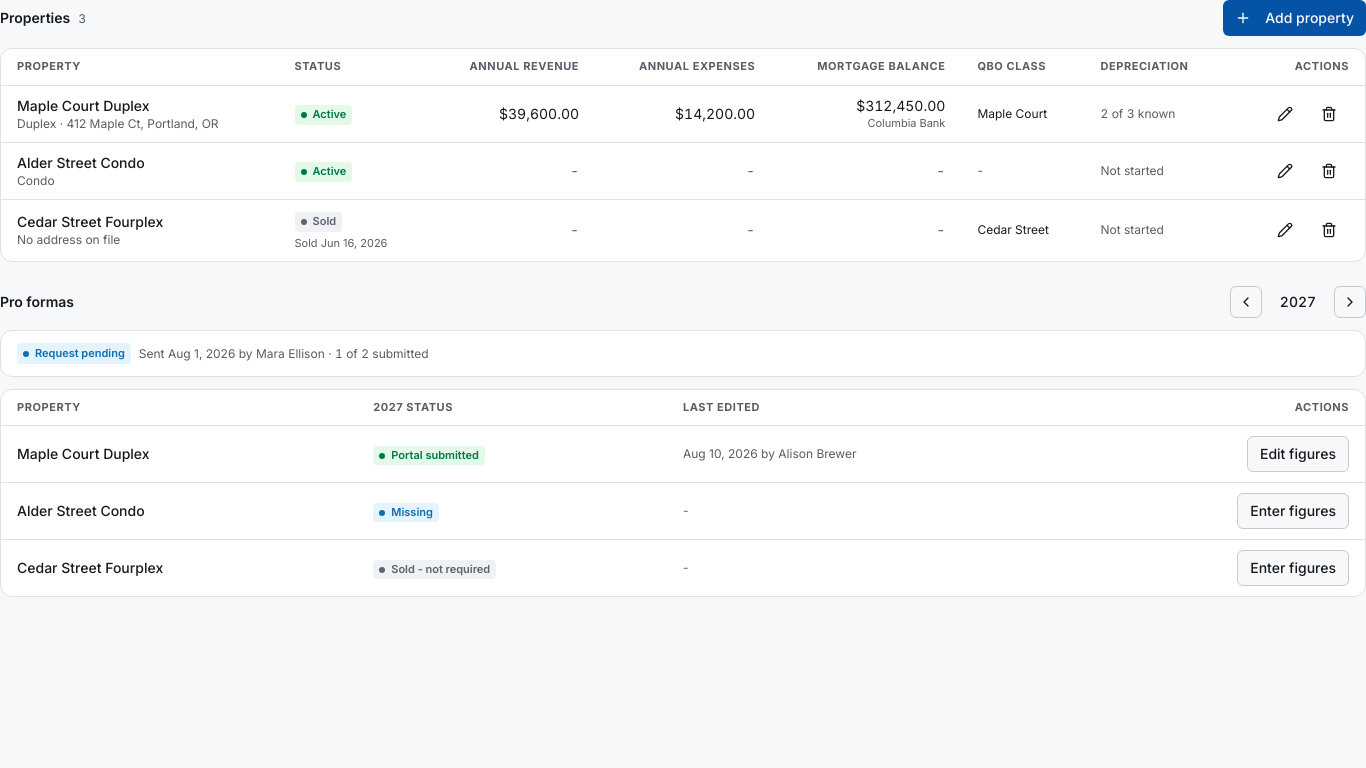
Test: ClientPropertiesPanel - property table › edit dialog carries the depreciation fields with per-field Known checkboxes
Click the button named "Edit Maple Court Duplex" at x=1285, y=114, box [1265,96,1305,132]
(page scrolled)
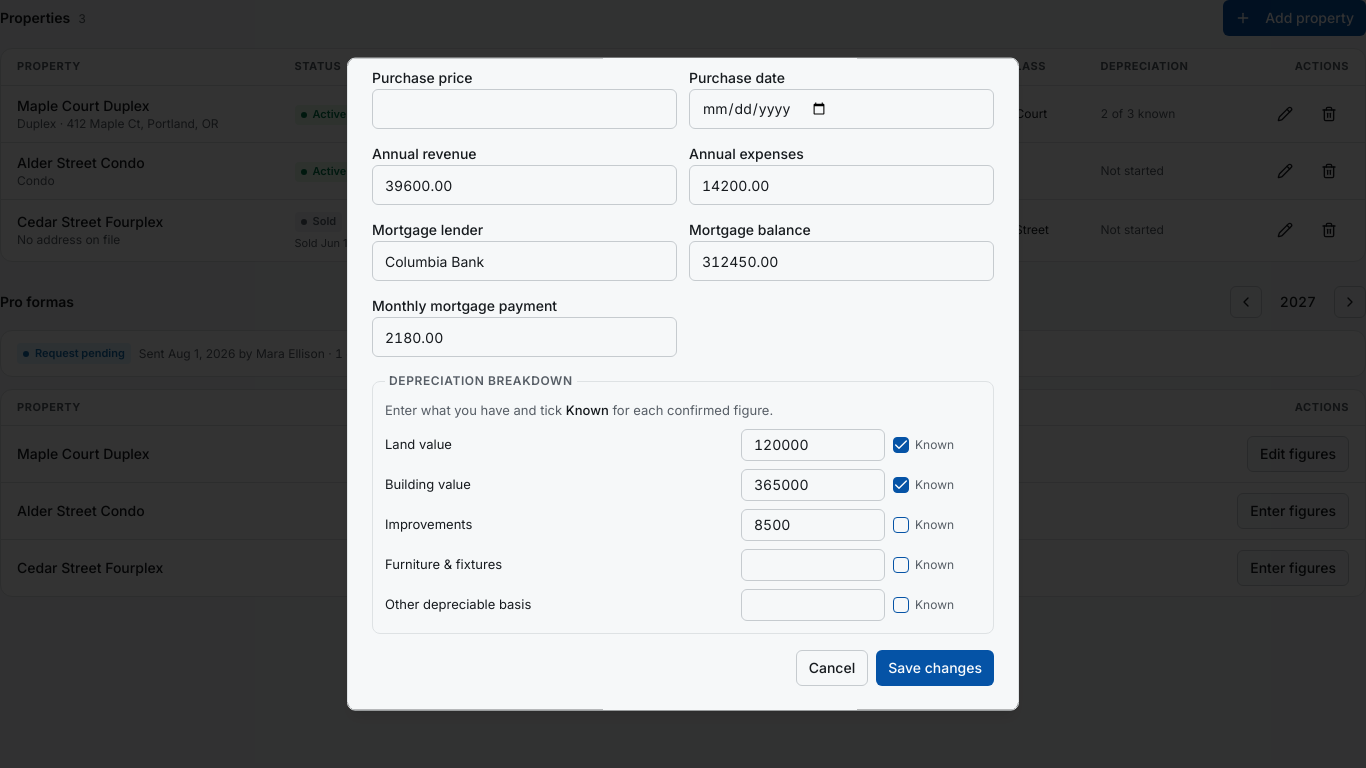
Expected: the dialog is shown, [347,58,1019,710]
Expected: the text "Depreciation breakdown" is shown, [385,373,577,389]
Expected: the checkbox with id "dep-land_value-known" is shown, [893,436,909,452]
